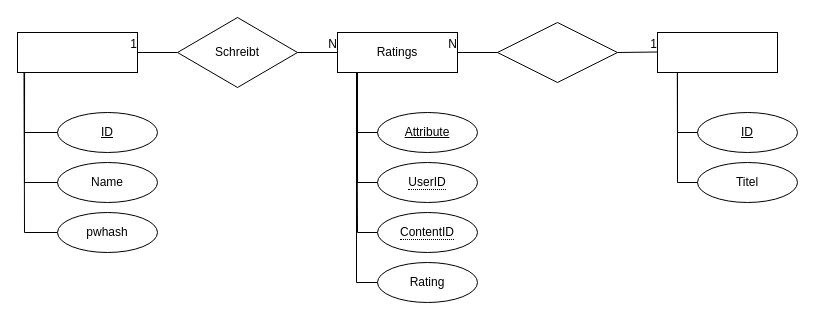
This 815x320 diagram has some shape labels left out. The centre of each missing label's shape, as x and y in pixels:
"Bewertet" belongs at (x=557, y=52).
"Content" belongs at (x=717, y=52).
"User" belongs at (x=77, y=52).
